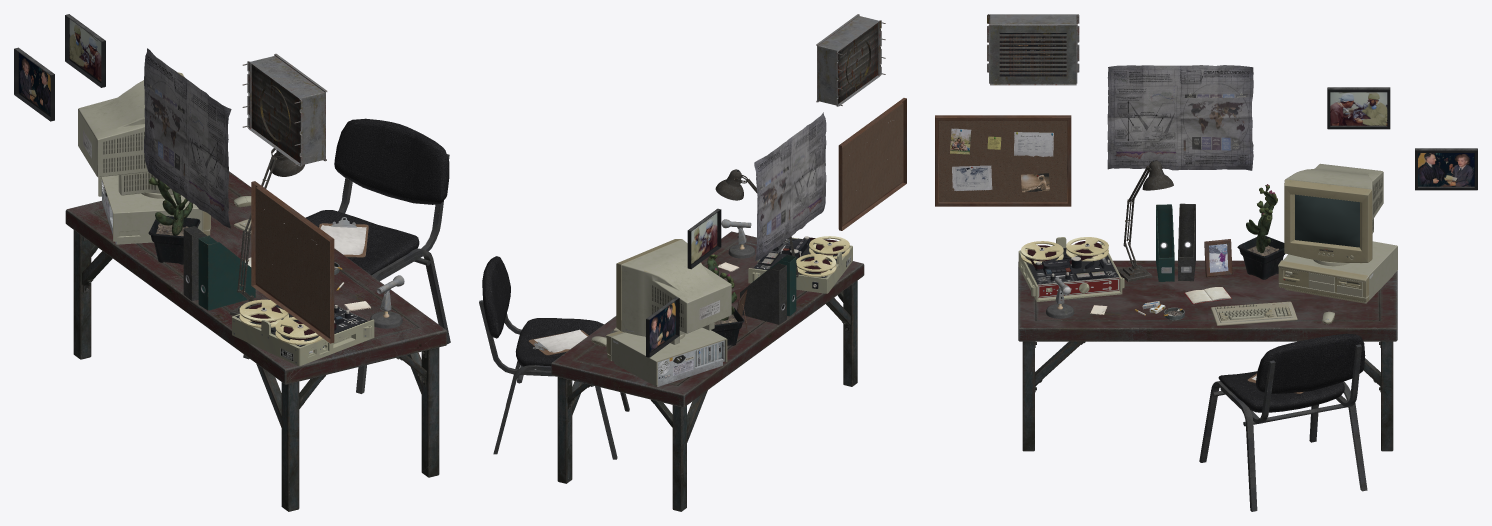
3 views of the same model, side by side, from view 1: azimuth 30°, elevation 25°; view 2: azimuth 150°, elevation 25°; view 3: azimuth 270°, elevation 25° (orthographic). The views are drawn at different scales.
Parts seen in each view (by area): view 1: Table_Rough_32, Chair_51, Poster_Crumpled_45, PinBoard_24, Vent_44, Monitor_6, TapeRecorder_33, Computer_5, FileBox_Green_8, PhotoFrame1_47, PhotoFrame2_46, FileBox_Black_7 (+5 smaller); view 2: Table_Rough_32, Monitor_6, Poster_Crumpled_45, PinBoard_24, Chair_51, Computer_5, Vent_44, TapeRecorder_33, FileBox_Black_7, PhotoFrame1_47, PhotoFrame2_46, FileBox_Green_8 (+4 smaller); view 3: Table_Rough_32, Poster_Crumpled_45, Chair_51, PinBoard_24, Monitor_6, TapeRecorder_33, Computer_5, PhotoFrame1_47, PhotoFrame2_46, Vent_44, Vent_Cover_Frame_43, Vent_Cover_39 (+11 smaller).
Part boxes in pixels (bbox=[...]): Table_Rough_32: bbox=[65, 171, 447, 511]; Chair_51: bbox=[243, 118, 450, 393]; Poster_Crumpled_45: bbox=[144, 48, 231, 228]; PinBoard_24: bbox=[251, 181, 334, 343]; Vent_44: bbox=[247, 53, 327, 166]; Monitor_6: bbox=[78, 72, 184, 198]; TapeRecorder_33: bbox=[232, 299, 374, 366]; Computer_5: bbox=[98, 175, 210, 244]; FileBox_Green_8: bbox=[198, 235, 255, 310]; PhotoFrame1_47: bbox=[65, 14, 105, 87]; PhotoFrame2_46: bbox=[14, 47, 54, 121]; FileBox_Black_7: bbox=[183, 226, 206, 300]; Table_Rough_32: bbox=[551, 231, 864, 511]; Monitor_6: bbox=[616, 239, 731, 344]; Poster_Crumpled_45: bbox=[754, 112, 826, 260]; PinBoard_24: bbox=[838, 98, 906, 230]; Chair_51: bbox=[479, 256, 629, 459]; Computer_5: bbox=[605, 327, 727, 386]; Vent_44: bbox=[816, 14, 881, 106]; TapeRecorder_33: bbox=[748, 236, 852, 293]; FileBox_Black_7: bbox=[740, 263, 786, 324]; PhotoFrame1_47: bbox=[687, 208, 721, 269]; PhotoFrame2_46: bbox=[646, 297, 679, 357]; FileBox_Green_8: bbox=[751, 254, 796, 316]; Table_Rough_32: bbox=[1018, 260, 1397, 451]; Poster_Crumpled_45: bbox=[1107, 65, 1253, 170]; Chair_51: bbox=[1199, 333, 1367, 511]; PinBoard_24: bbox=[935, 115, 1071, 206]; Monitor_6: bbox=[1284, 163, 1383, 266]; TapeRecorder_33: bbox=[1018, 237, 1124, 301]; Computer_5: bbox=[1278, 241, 1397, 303]; PhotoFrame1_47: bbox=[1327, 87, 1390, 129]; PhotoFrame2_46: bbox=[1415, 148, 1477, 190]; Vent_44: bbox=[987, 14, 1079, 85]; Vent_Cover_Frame_43: bbox=[990, 26, 1075, 83]; Vent_Cover_39: bbox=[999, 34, 1066, 74].
Bounding box in the file's own units: 1.72 × 2.18 × 2.89.
Materials: 14 (14 with a texture image).
